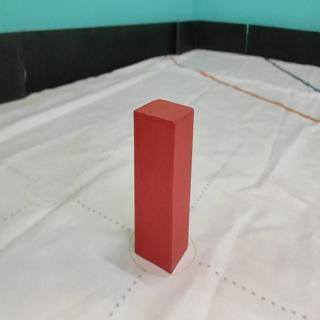redbox: (133, 97, 194, 275)
